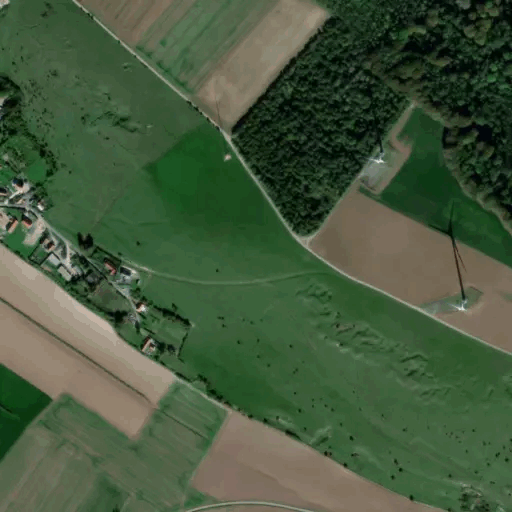wt: (426, 204, 478, 319), (349, 65, 395, 171)
